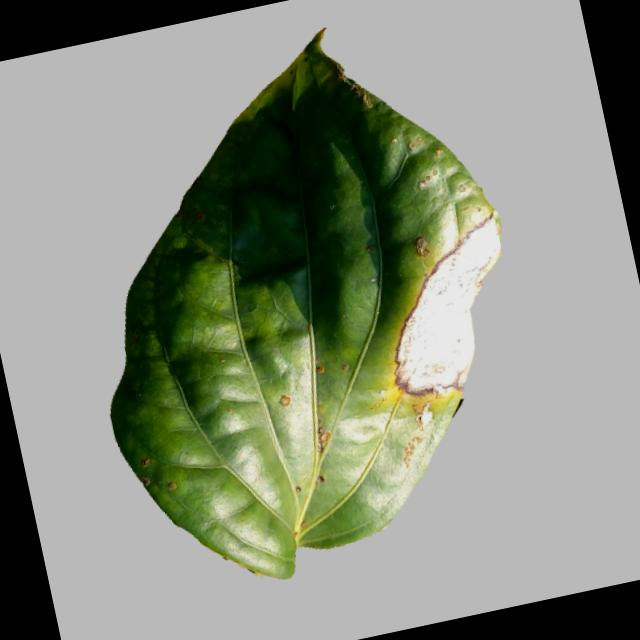leaf-blight: (40, 0, 565, 607)
